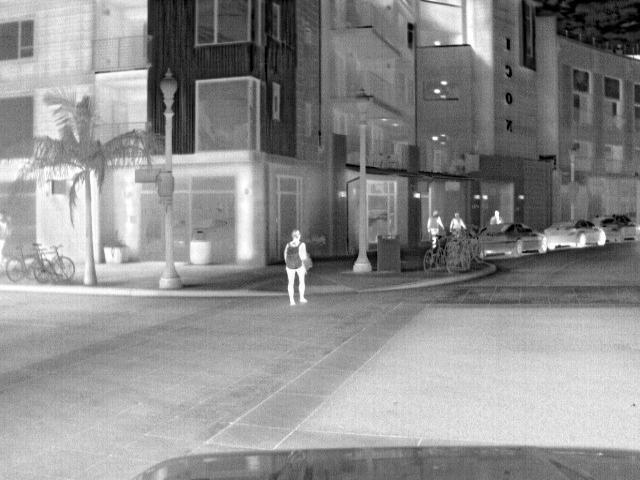car: (478, 222, 545, 257), (541, 218, 607, 250), (595, 213, 637, 243)
person: (282, 230, 311, 306), (425, 209, 447, 246), (447, 211, 467, 233), (486, 209, 506, 227)
